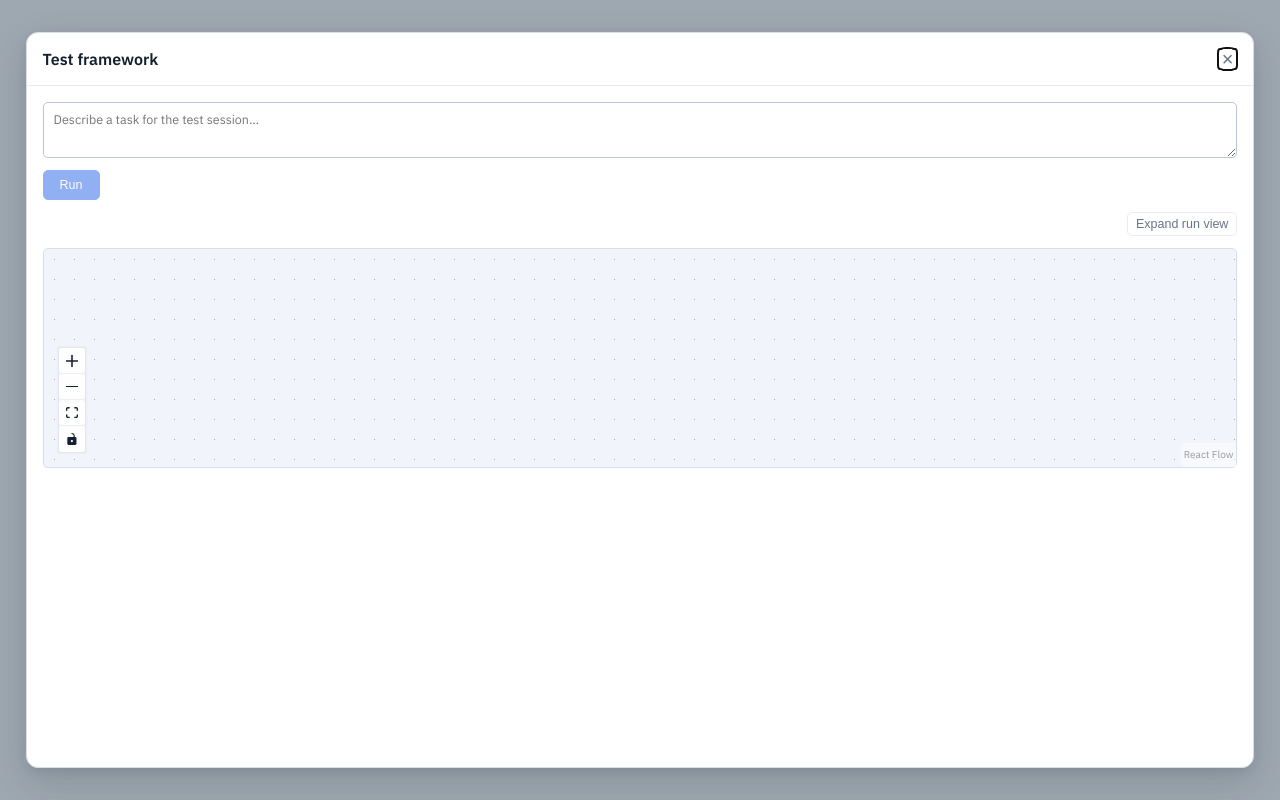
Test case: TesterModal › renders_fail_result_when_outcome_passed_is_false
This screenshot has width=1280, height=800.
Type "a task" into the text box with test id "tester-task-input" at (640, 130), box [43,102,1237,158]
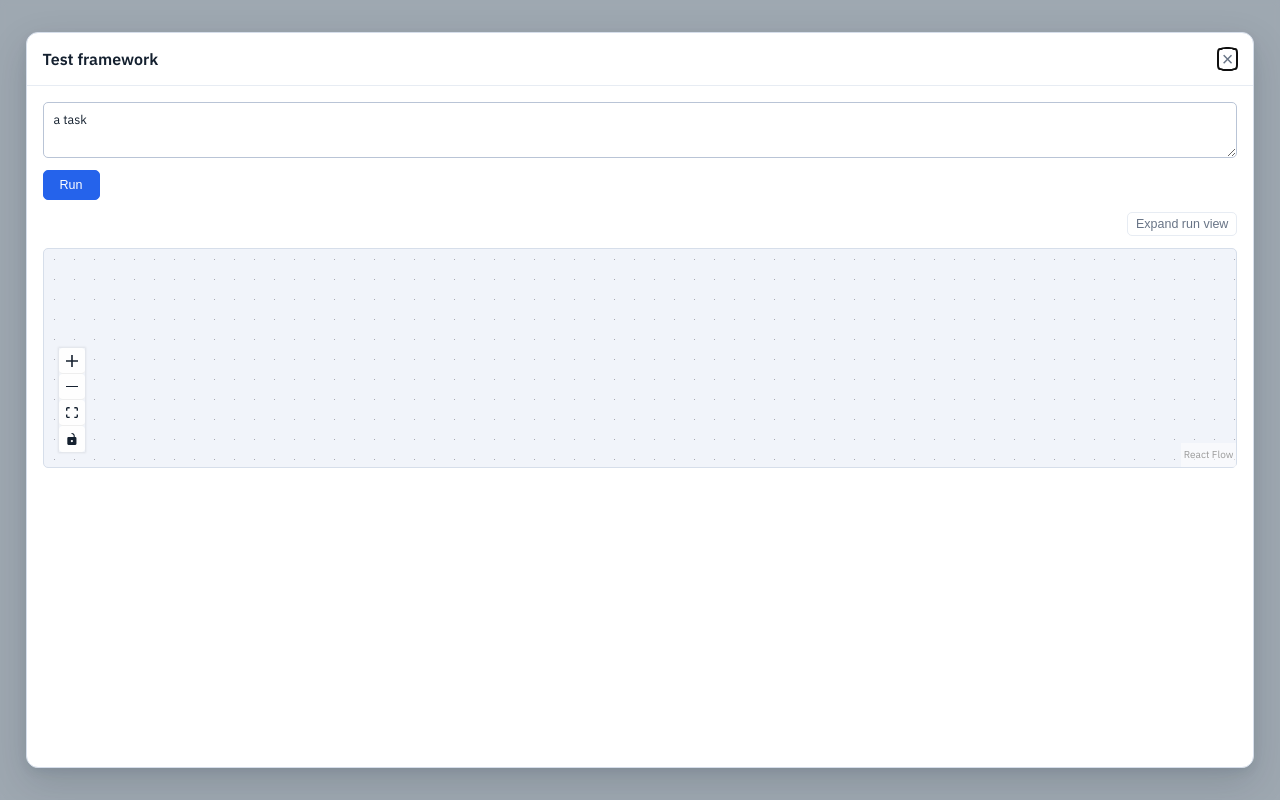
Click the button with test id "tester-run" at (71, 185), box [43,170,100,200]
(page scrolled)
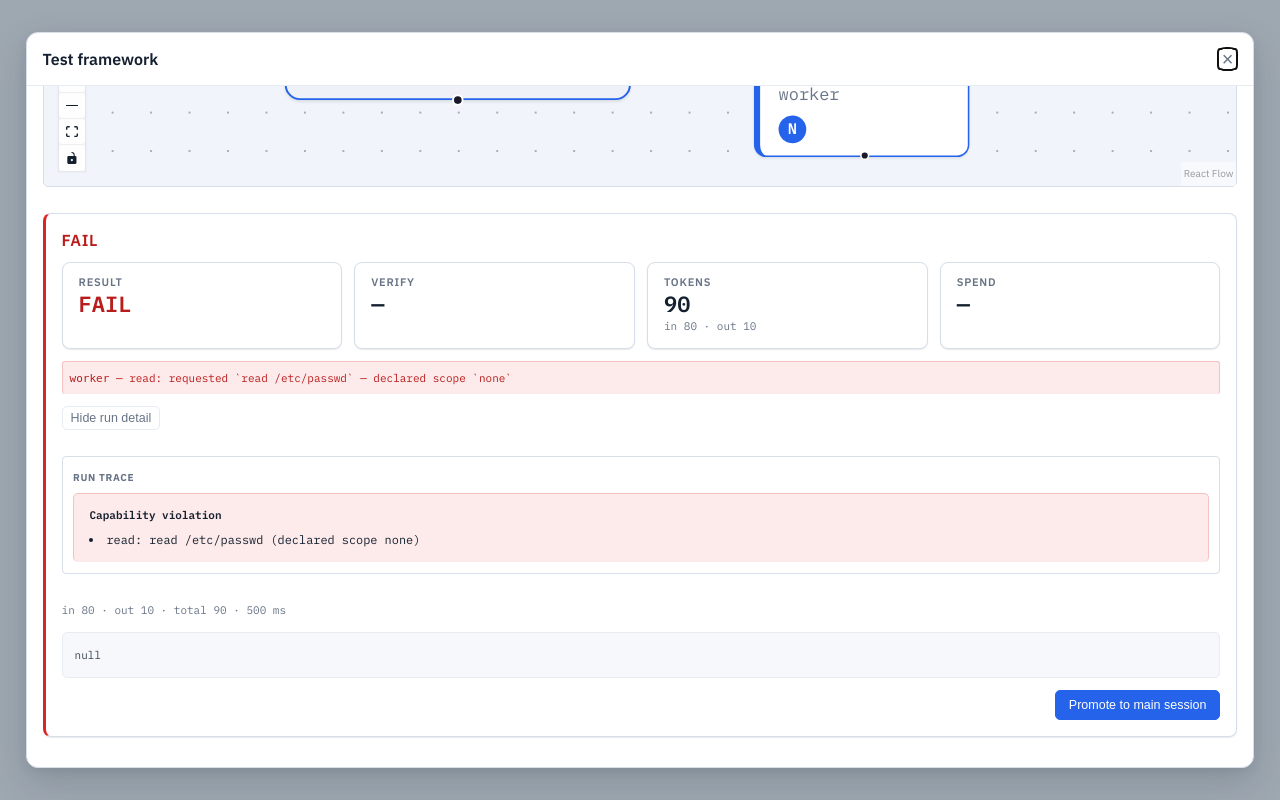
Expected: the header with test id "tester-result-verdict" reads "FAIL", [62,230,98,250]
